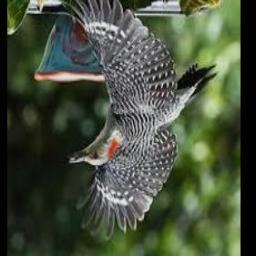Woodpecker: (49, 0, 217, 241)
